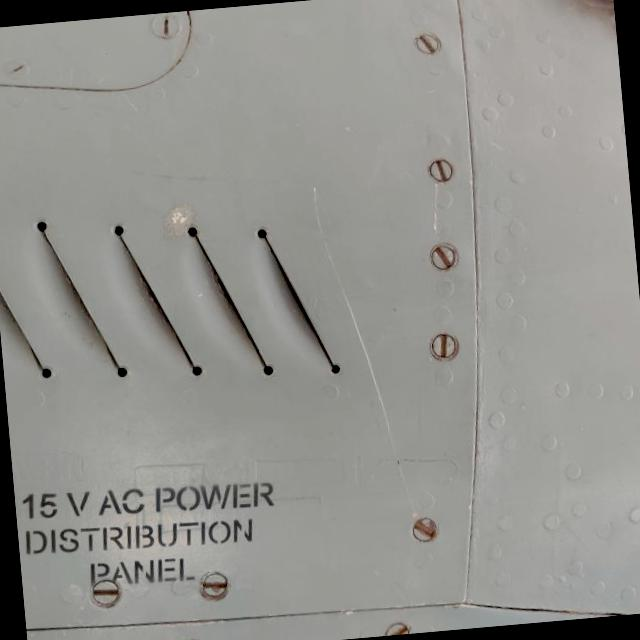scratch: (293, 170, 430, 526)
